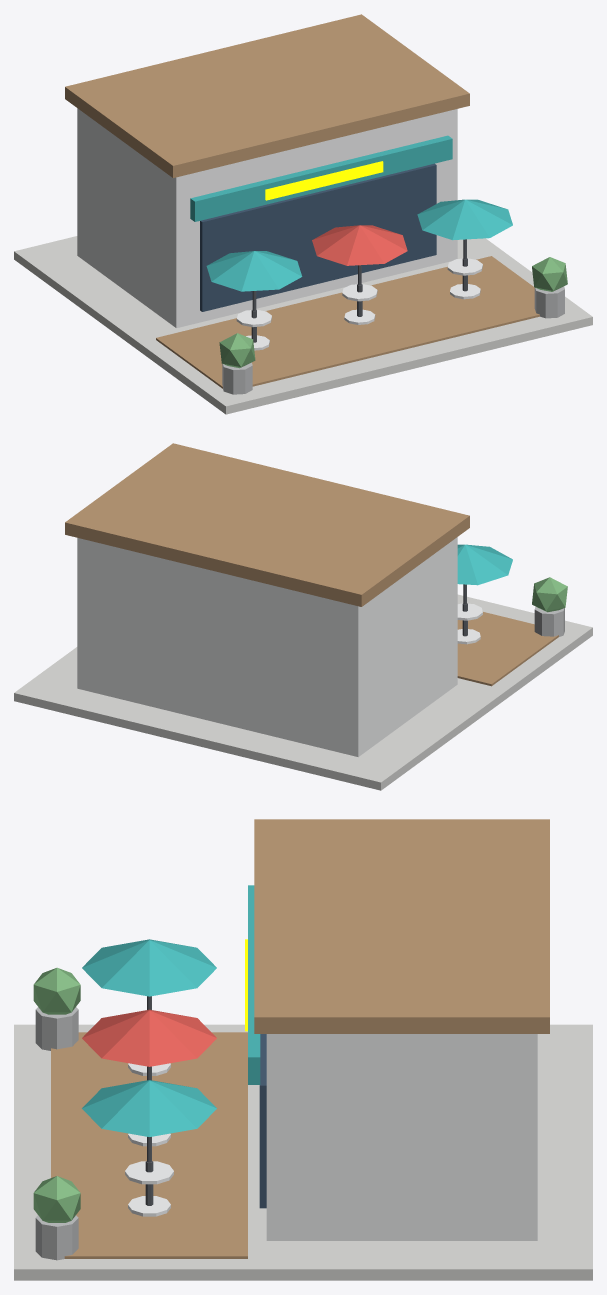
Rendered from cafe.glb.
3 renders of one model, top to bottom at view 1: azimuth 30°, elevation 25°; view 2: azimuth 150°, elevation 25°; view 3: azimuth 270°, elevation 25°, orthographic. The views are drawn at different scales.
Parts seen in each view (by area): view 1: cafe_body; view 2: cafe_body; view 3: cafe_body.
Boxes of the visible parts, left/top/right/bottom form: cafe_body: left=14, top=14, right=592, bottom=414; cafe_body: left=14, top=443, right=592, bottom=790; cafe_body: left=14, top=819, right=592, bottom=1280.
Size of the model in its own units: 0.94 by 0.43 by 0.94.
